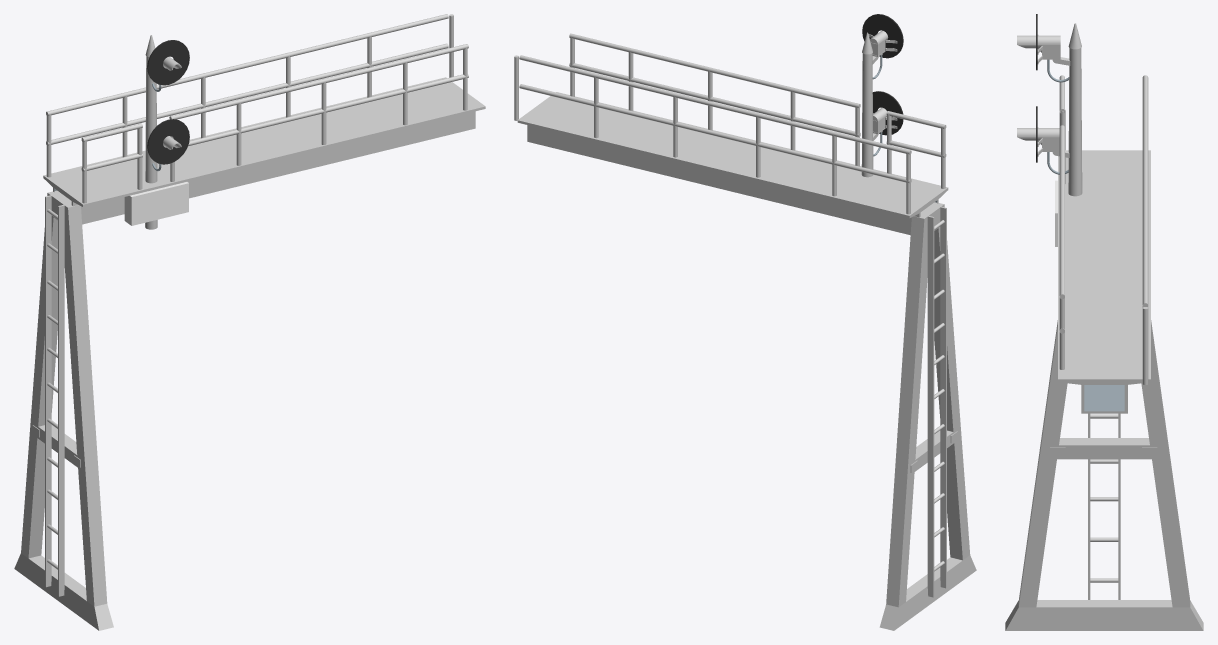
3 views of the same model, side by side, from view 1: azimuth 30°, elevation 25°; view 2: azimuth 150°, elevation 25°; view 3: azimuth 270°, elevation 25° (orthographic). The views are drawn at different scales.
Visible parts, largest first — view 1: group_14, group_21, group_70, group_65, group_40, group_39, Box, group_55, group_56, group_4, group_4_2, group_11; view 2: group_14, group_21, group_70, group_65, group_39, group_40, group_55, group_56, group_11, group_4, group_4_2; view 3: group_14, group_21, group_11, group_39, group_55, group_65, group_7, group_7_2, group_30, group_57.
Part boxes in pixels (bbox=[...]): group_14: bbox=[43, 77, 485, 224]; group_21: bbox=[14, 190, 113, 630]; group_70: bbox=[45, 195, 64, 434]; group_65: bbox=[45, 424, 64, 596]; group_40: bbox=[46, 43, 448, 145]; group_39: bbox=[46, 14, 448, 116]; Box: bbox=[124, 182, 188, 225]; group_55: bbox=[169, 44, 468, 119]; group_56: bbox=[188, 74, 468, 146]; group_4: bbox=[147, 40, 189, 85]; group_4_2: bbox=[147, 119, 189, 164]; group_11: bbox=[145, 35, 157, 229]; group_14: bbox=[517, 92, 948, 235]; group_21: bbox=[879, 202, 976, 630]; group_70: bbox=[927, 206, 946, 439]; group_65: bbox=[927, 429, 946, 597]; group_39: bbox=[519, 55, 911, 154]; group_40: bbox=[519, 84, 911, 183]; group_55: bbox=[569, 33, 860, 108]; group_56: bbox=[569, 63, 860, 136]; group_11: bbox=[861, 32, 873, 177]; group_4: bbox=[862, 14, 903, 58]; group_4_2: bbox=[872, 91, 903, 135]; group_14: bbox=[1058, 150, 1150, 413]; group_21: bbox=[1005, 320, 1203, 630]; group_11: bbox=[1068, 23, 1082, 196]; group_39: bbox=[1142, 75, 1148, 306]; group_55: bbox=[1059, 125, 1064, 299]; group_65: bbox=[1088, 422, 1120, 599]; group_7: bbox=[1017, 35, 1060, 59]; group_7_2: bbox=[1017, 128, 1059, 151]; group_30: bbox=[1142, 307, 1148, 384]; group_57: bbox=[1059, 298, 1064, 369].
Size of the model in its own units: 7.29 by 9.31 by 2.56.
